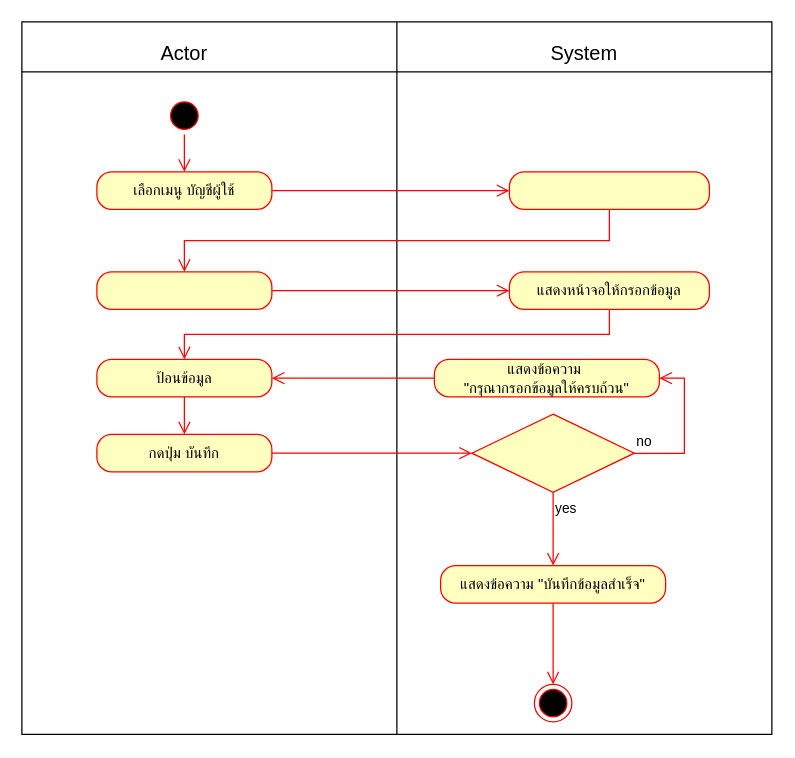
The diagram is 795 pixels wide and 758 high, and some of its shapes have lost their labels. The centre of each missing label's shape, as x and y in pixels:
"ตรวจสอบความถูกต้อง" goes at [552,452].
"เลือก เพิ่ม บัญชีผู้ใช้" goes at [184,290].
"แสดงหน้าจอ บัญชีผู้ใช้ทั้งหมด" goes at [608,190].
